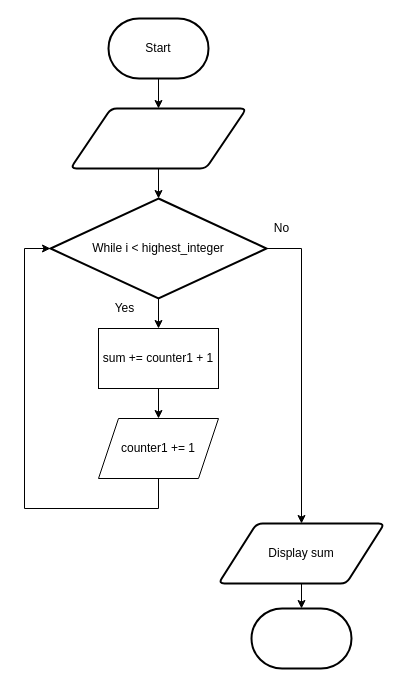
Some shapes in this 403 by 686 pixel diagram are drawn without their labels. Here are the shapes that lost their labels. From the top down, the centre of each, then its label:
At point 158,138: "Get highest_integer".
At point 301,638: "Stop".
